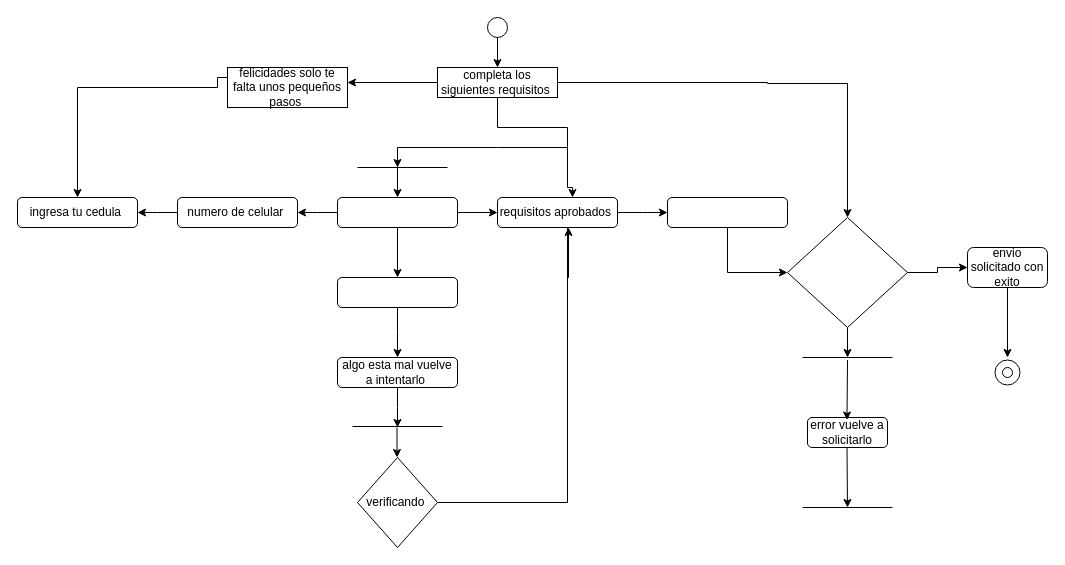
Some shapes in this 1065 by 565 pixel diagram are drawn without their labels. The box of each missing label's shape, as (x1, y1, x2, y2) in pixels:
correo electrónico: (336, 196, 458, 228)
dirección de tu casa: (336, 276, 458, 308)
solicitando: (786, 216, 908, 328)
solicitar envio al lugar de recidencia: (666, 196, 788, 228)
